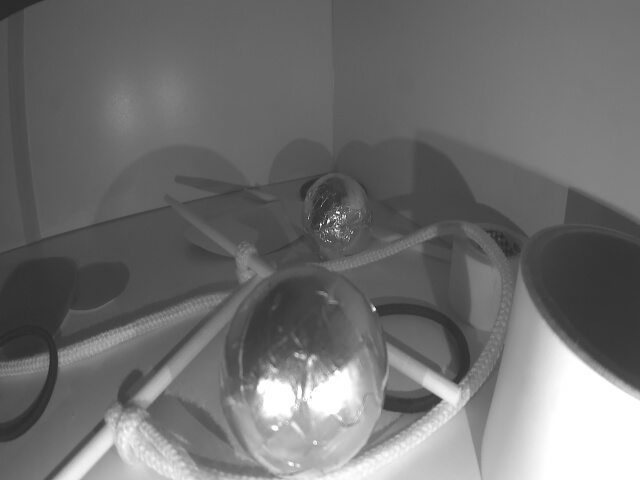Live: (224, 269, 388, 480), (302, 170, 371, 259)
